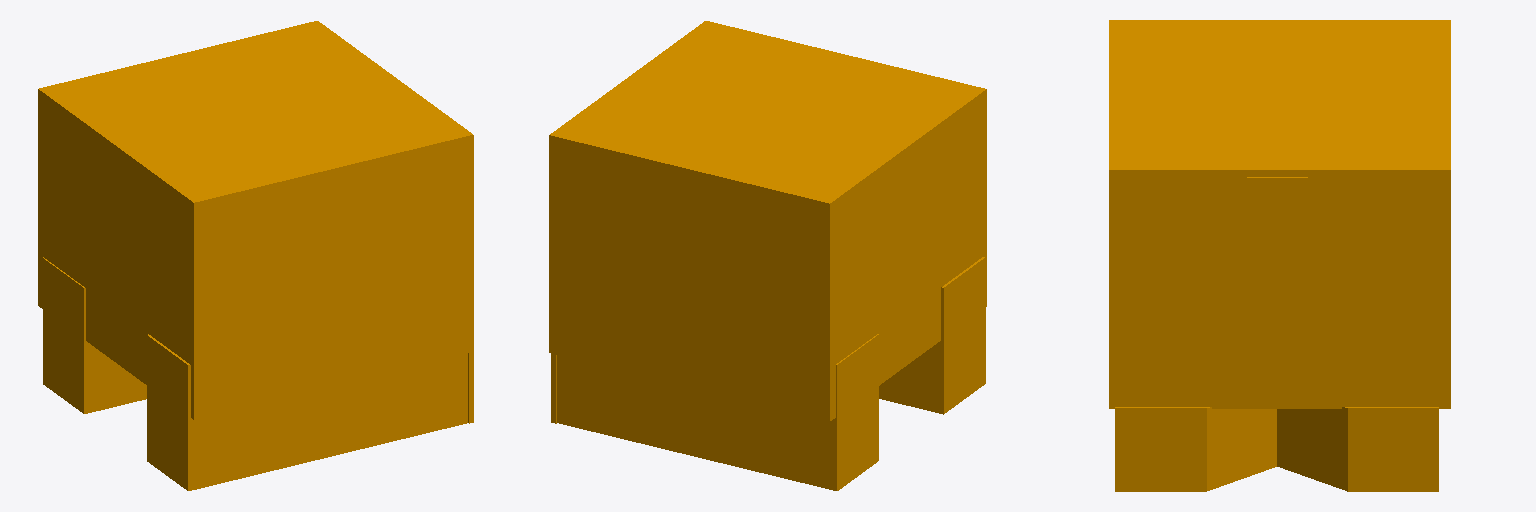
robot.urdf — apriltag:
<robot name="apriltag">

    <link name="apriltag_link">
 	    <inertial>
            <origin xyz="-0.31 0 0.3" rpy="0 0 0"/>
            <mass value="10.0" />
            <inertia ixx="0.681" ixy="0.0" ixz="0.0" iyy="0.346" iyz="0.0" izz="0.495"/>
        </inertial>

        <!-- <xacro:inertial_box mass="10.0" x="0.31" y="0.706" z="0.565">
            <origin xyz="0.0 0.0 0.0" rpy="0 0 0 "/>
        </xacro:inertial_box> -->

        <collision>
            <origin xyz="0 0 0" rpy="0 0 0"/>
            <geometry>
                <mesh filename="package://amr_gazebo/sdf/apriltag_and_vl_docker/april_tag_10cm_and_vl_120.dae"/>
            </geometry>
        </collision>
        <visual>
            <origin rpy="0.0 0 0" xyz="0 0 0"/>
            <geometry>
                <mesh filename="package://amr_gazebo/sdf/apriltag_and_vl_docker/april_tag_10cm_and_vl_120.dae"/>
            </geometry>
        </visual>
    </link>
    
    <gazebo reference="apriltag_link">
        <kp>100000.0</kp>
        <kd>100000.0</kd>
        <mu1>0.1</mu1>
        <mu2>0.1</mu2>
        <fdir1>1 0 0</fdir1>
    </gazebo>
</robot>

--- Render facts (derived) ---
Views: 3 orthographic renders of the robot side by side, from view 1: azimuth 30°, elevation 25°; view 2: azimuth 150°, elevation 25°; view 3: azimuth 270°, elevation 25°.
Model apriltag with 1 links and 0 joints (none), rooted at apriltag_link, posed all joints at 0.
Links seen in each view (by area): view 1: apriltag_link; view 2: apriltag_link; view 3: apriltag_link.
Boxes of the visible links, x1,y1,x2,y2 form: apriltag_link: (38,21,473,490); apriltag_link: (549,21,986,490); apriltag_link: (1109,20,1450,491).
Bounding box of the posed robot: 0.5917 × 0.56 × 0.5766 m (x, y, z).
1 mesh visuals loaded from 1 distinct referenced files (1 Collada DAE).